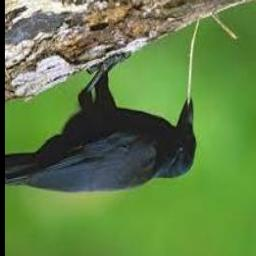Crow: (5, 51, 197, 195)
